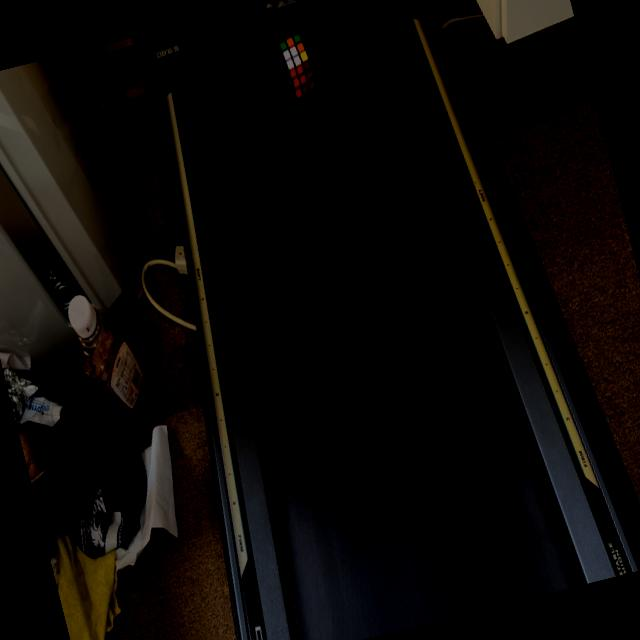Trash: (275, 31, 319, 100)
